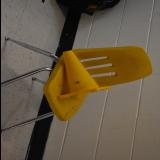cone: (56, 51, 110, 98)
